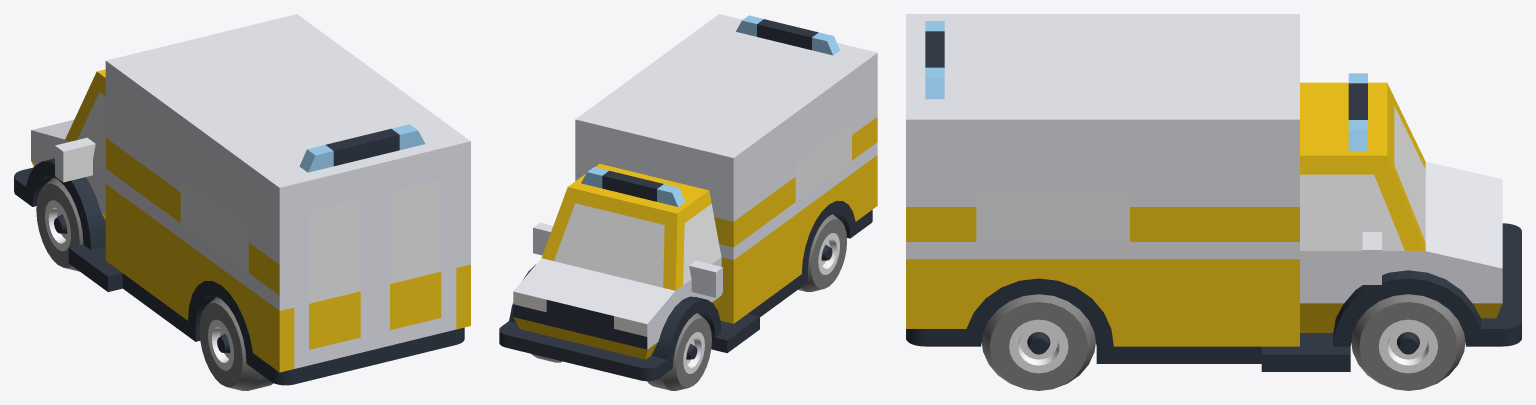
Rendered from ambulance.glb.
3 views of the same model, side by side, from view 1: azimuth 30°, elevation 25°; view 2: azimuth 150°, elevation 25°; view 3: azimuth 270°, elevation 25° (orthographic). The views are drawn at different scales.
Visible parts, largest first — view 1: body, doorRight, doorLeft, wheel_backLeft, wheel_frontLeft; view 2: body, wheel_frontLeft, wheel_backLeft; view 3: body, wheel_frontRight, wheel_backRight.
Boxes of the visible parts, x1,y1,x2,y2 form: body: [14, 14, 470, 385]; doorRight: [375, 160, 456, 349]; doorLeft: [294, 180, 375, 368]; wheel_backLeft: [199, 297, 273, 390]; wheel_frontLeft: [36, 177, 83, 271]; body: [499, 14, 877, 381]; wheel_frontLeft: [647, 313, 711, 390]; wheel_backLeft: [798, 214, 846, 291]; body: [906, 14, 1521, 371]; wheel_frontRight: [1351, 294, 1465, 390]; wheel_backRight: [981, 294, 1095, 390].
Bounding box in the file's own units: 1.5 × 1.7 × 3.2.
